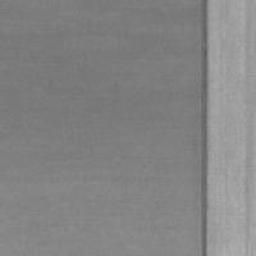Welding line: (200, 0, 210, 256)
